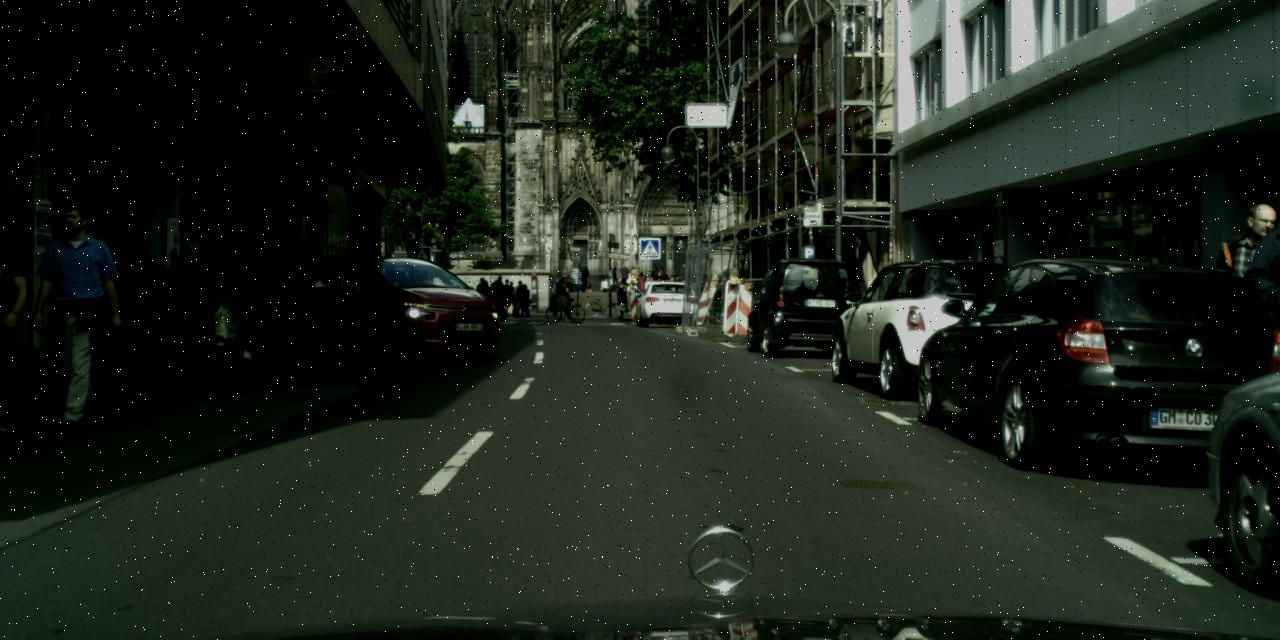ped: (32, 199, 124, 425), (1209, 203, 1279, 417), (163, 239, 214, 365), (180, 237, 228, 356), (221, 242, 267, 356), (475, 274, 533, 322), (612, 260, 684, 294), (551, 262, 592, 294), (555, 280, 571, 321), (616, 278, 631, 317), (598, 278, 608, 293)
